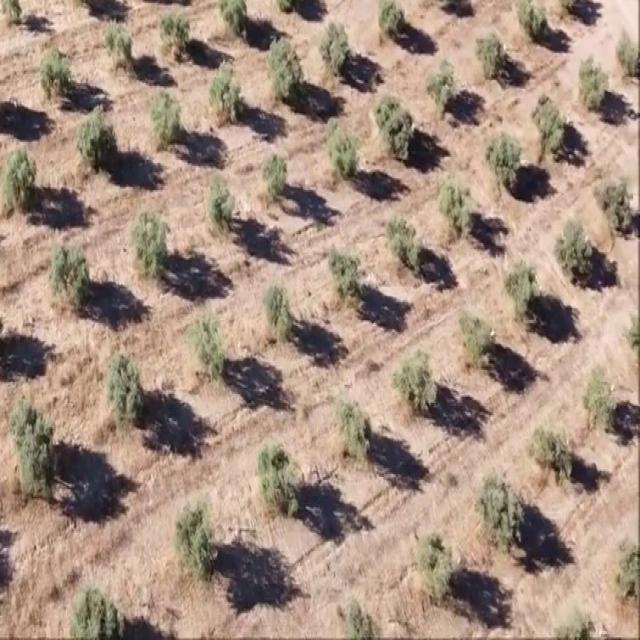trees: (3, 388, 59, 506), (469, 464, 528, 561), (532, 91, 590, 176), (176, 489, 223, 583), (189, 298, 237, 387), (259, 437, 308, 521), (592, 165, 640, 249), (106, 344, 150, 434), (578, 356, 622, 446), (129, 201, 175, 287), (434, 169, 480, 255), (392, 342, 444, 418), (550, 210, 600, 289), (47, 235, 96, 314), (368, 87, 417, 164), (73, 105, 122, 181), (262, 29, 308, 109), (499, 246, 543, 328), (480, 124, 528, 198), (324, 107, 368, 186), (146, 76, 187, 158), (318, 14, 361, 92), (1, 142, 42, 222), (206, 57, 249, 130), (456, 307, 500, 374), (576, 49, 616, 122), (38, 42, 80, 109), (386, 212, 428, 276), (422, 52, 462, 119), (328, 239, 367, 307), (472, 24, 512, 90), (153, 4, 195, 66), (202, 174, 240, 240), (103, 15, 142, 78), (261, 280, 298, 344), (262, 151, 298, 210), (509, 0, 552, 47), (373, 0, 412, 47), (614, 22, 640, 92), (214, 0, 256, 42), (0, 0, 28, 29)
